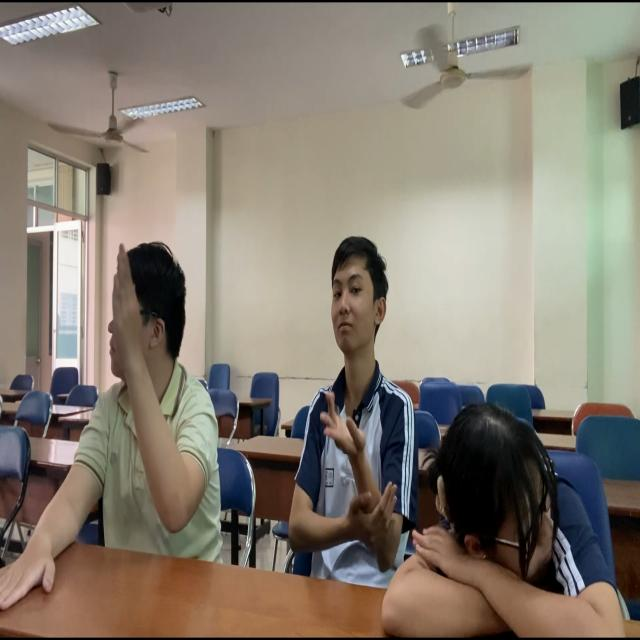raise_hand: (60, 235, 233, 556)
sleep: (390, 406, 640, 640)
